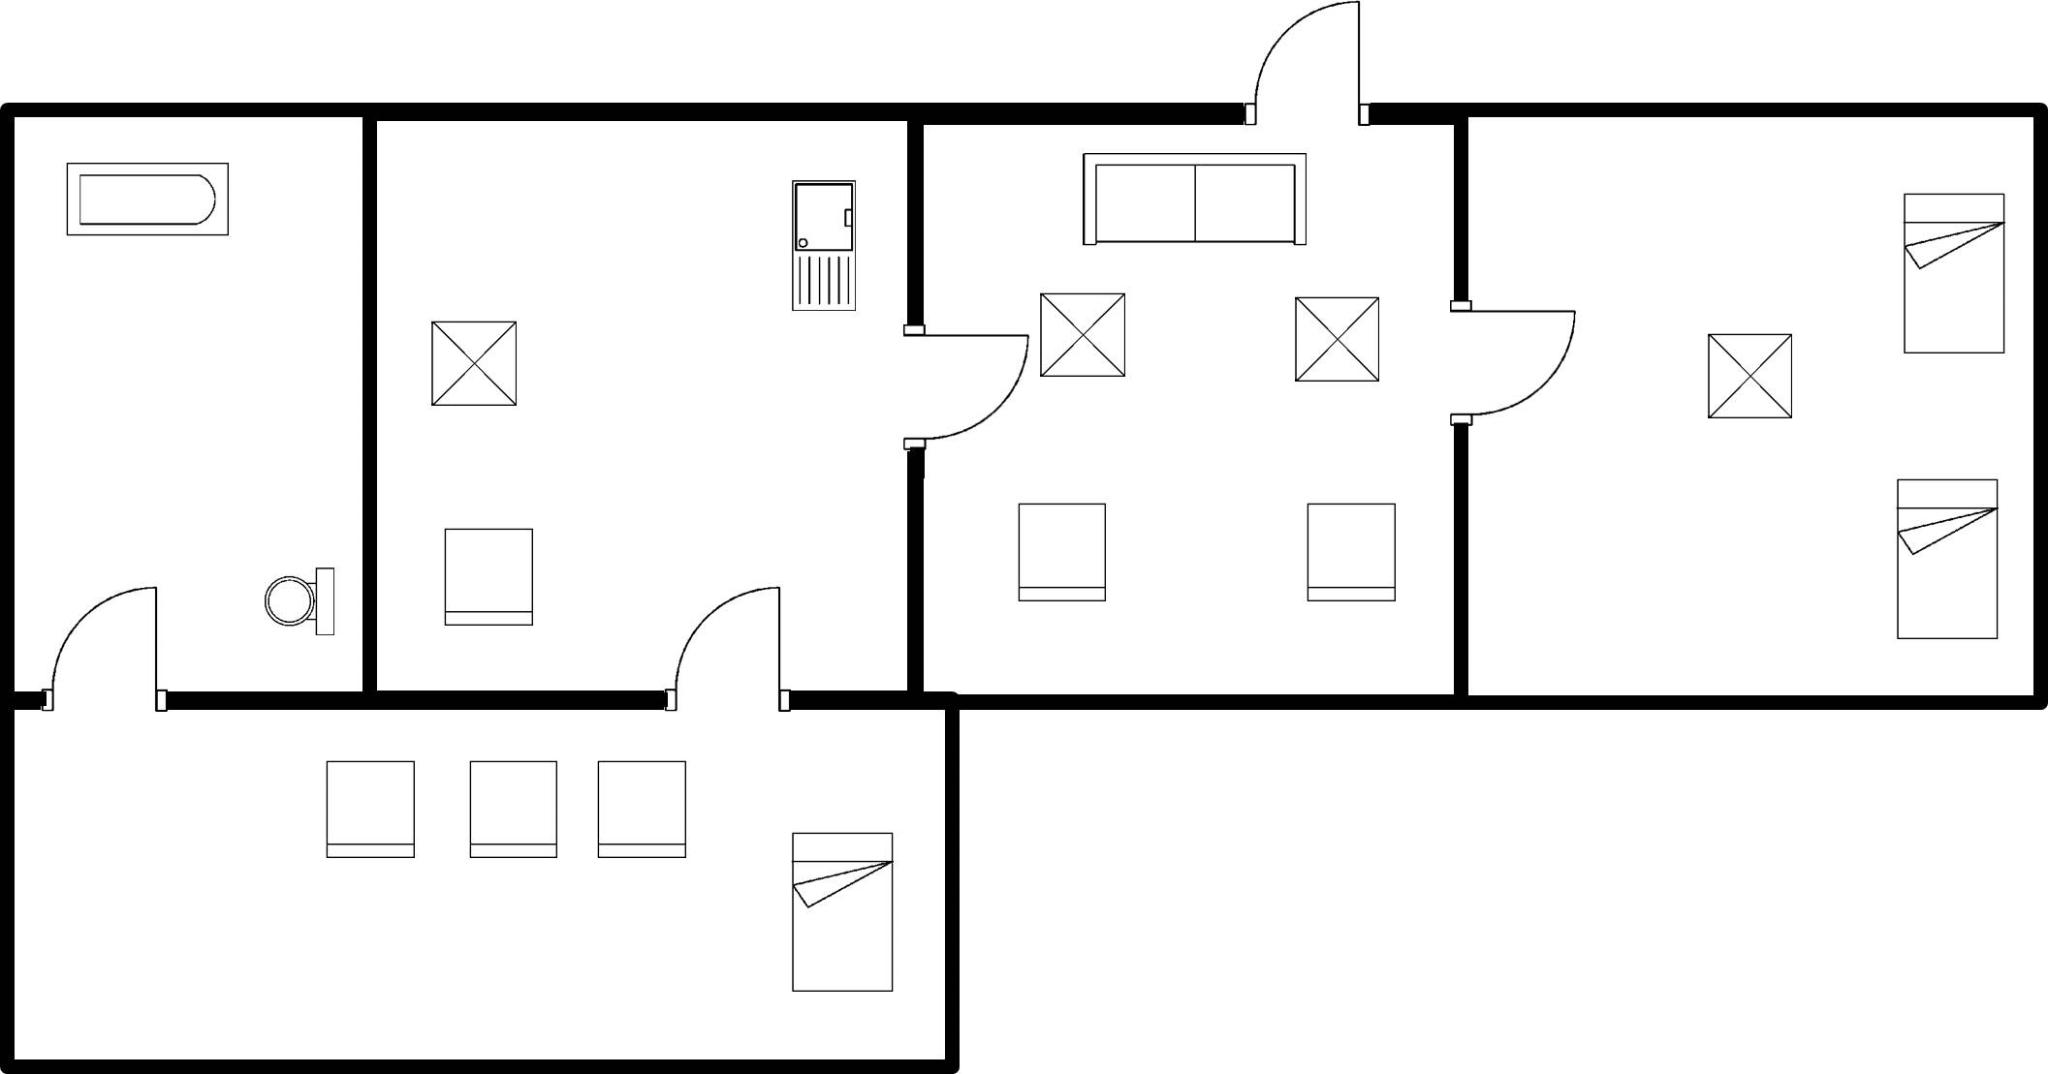bed: (1895, 181, 2015, 371), (779, 822, 902, 1006), (1887, 470, 2007, 650)
sink: (782, 171, 870, 321)
sofa: (1074, 145, 1317, 256)
toilet: (251, 557, 341, 639)
tub: (51, 150, 238, 246)
